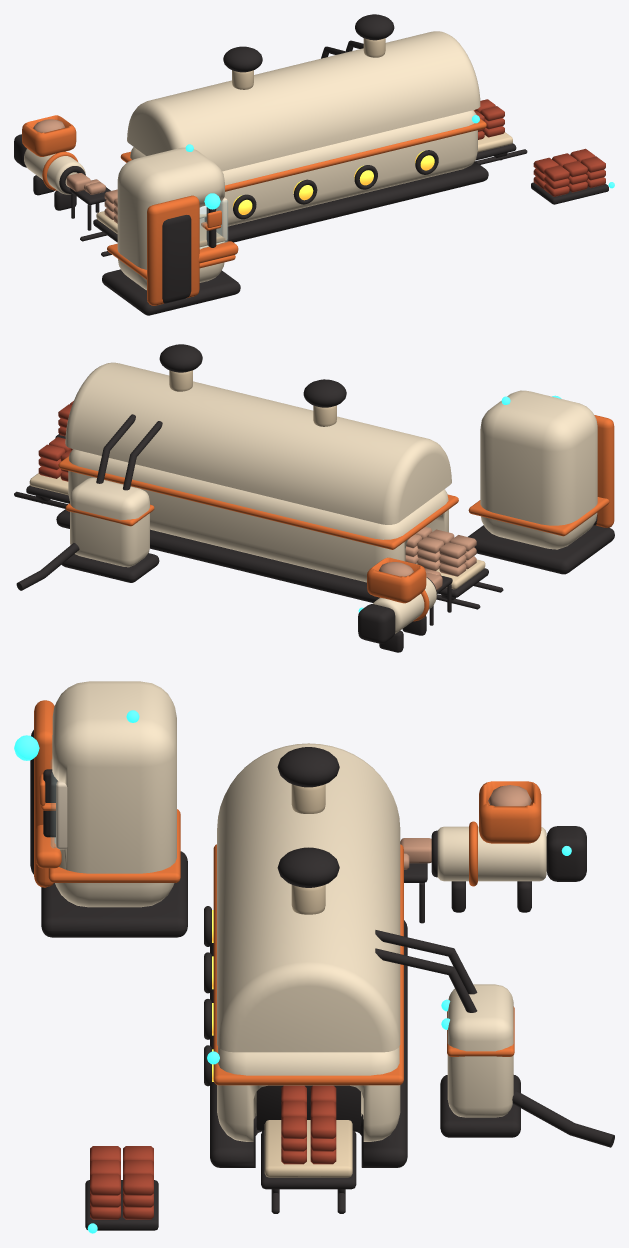
File: brickkiln.glb
3 views of the same model, one above another, from view 1: azimuth 30°, elevation 25°; view 2: azimuth 150°, elevation 25°; view 3: azimuth 270°, elevation 25° (orthographic). The views are drawn at different scales.
Parts seen in each view (by area): view 1: Cube.001, Cube, Cube.002, Cube.034, Cube.013, Cube.014, Cube.092, Cube.004; view 2: Cube.001, Cube, Cube.002, Cube.014, Cube.013, Cube.034; view 3: Cube.001, Cube, Cube.002, Cube.034, Cube.013, Cube.014, Cube.089, Cube.081.
Boxes of the visible parts, x1,y1,x2,y2 form: Cube.001: (24,31,480,290); Cube: (14,14,608,315); Cube.002: (22,115,486,305); Cube.034: (473,99,605,196); Cube.013: (96,38,512,233); Cube.014: (33,119,117,223); Cube.092: (199,200,228,248); Cube.004: (232,150,434,214); Cube.001: (65,362,597,633); Cube: (14,344,614,652); Cube.002: (58,415,614,621); Cube.014: (379,526,476,590); Cube.013: (29,370,485,589); Cube.034: (38,401,73,481); Cube.001: (52,681,546,1141); Cube: (30,730,614,1230); Cube.002: (34,700,541,1085); Cube.034: (90,1085,336,1219); Cube.013: (264,784,352,1177); Cube.014: (400,785,531,869); Cube.089: (14,710,571,1233); Cube.081: (56,781,67,849).
Bounding box in the file's own units: 2.39 × 0.7725 × 1.64.
